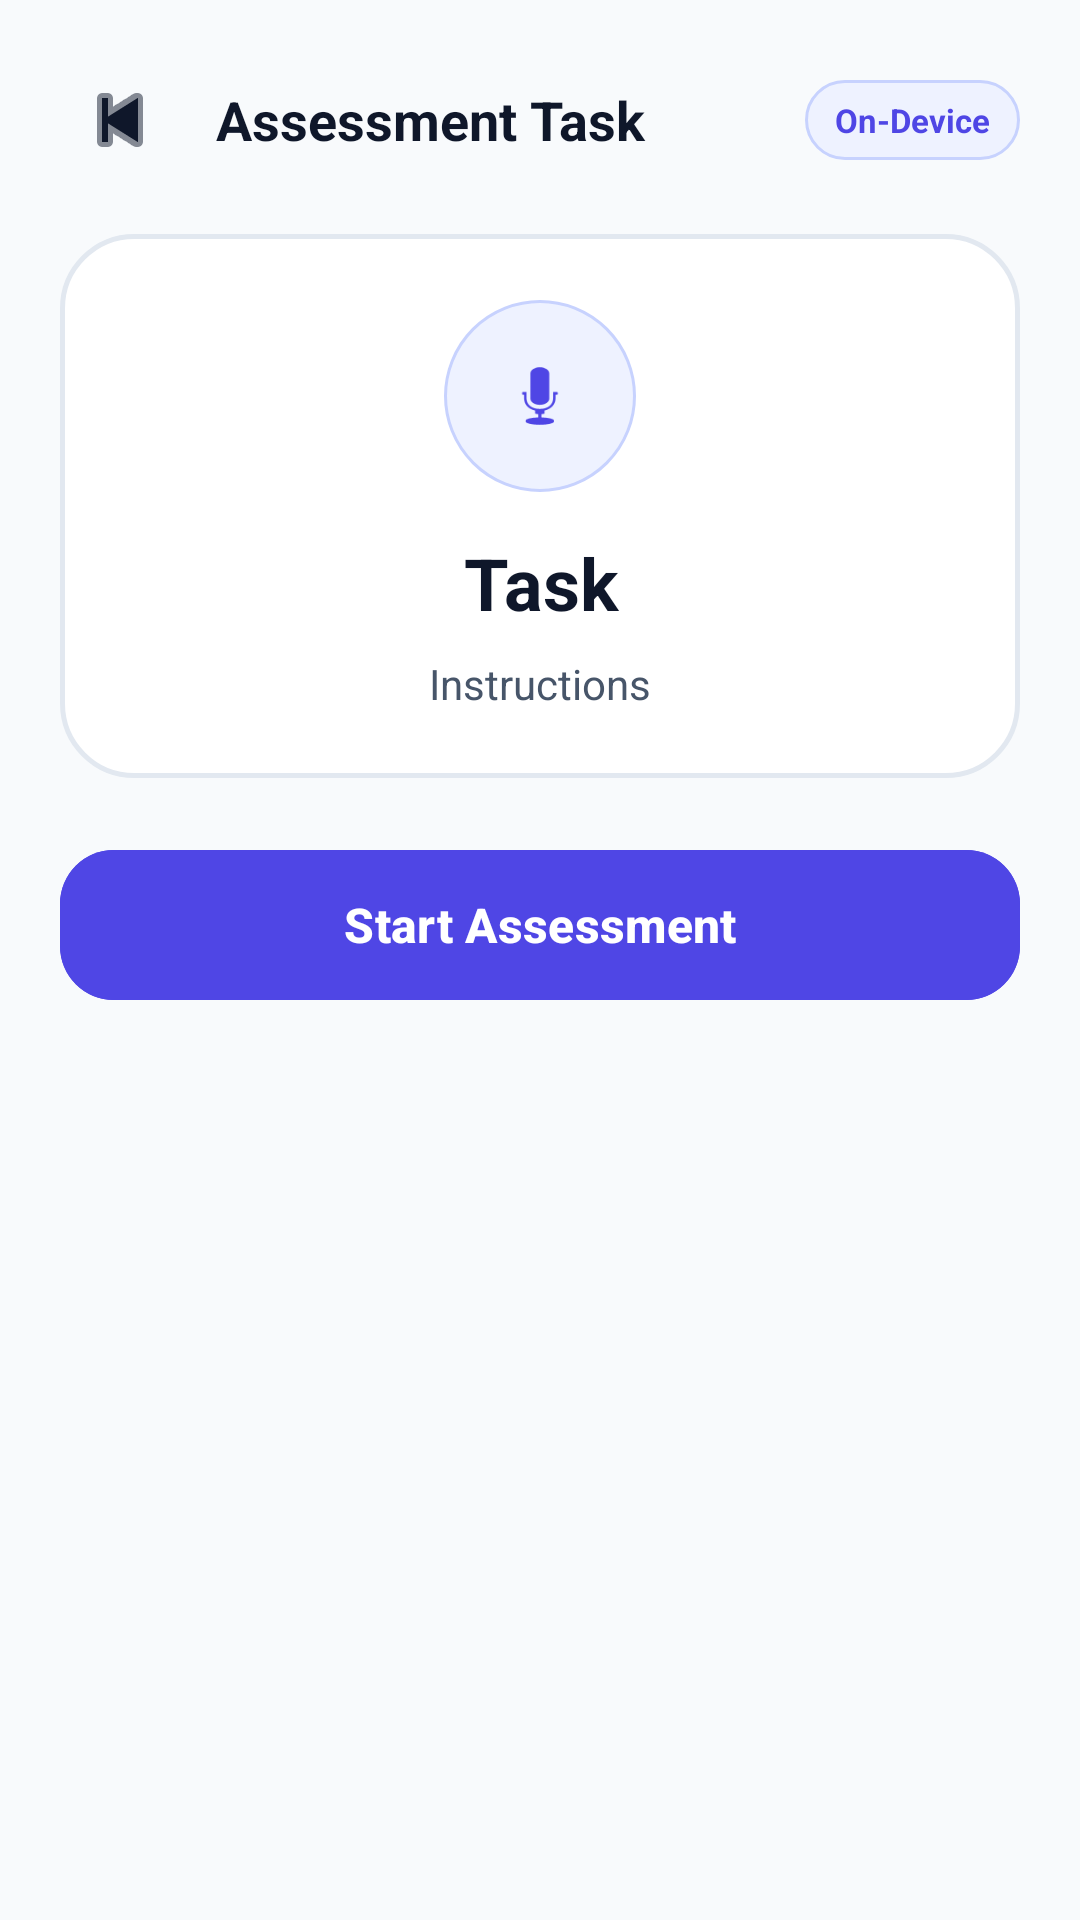

Where icons sit on this 1080 x 1920 app screen, as detection(x1, y1, x2, y2):
Back: detection(97, 93, 143, 147)
speak now: detection(522, 367, 558, 425)
